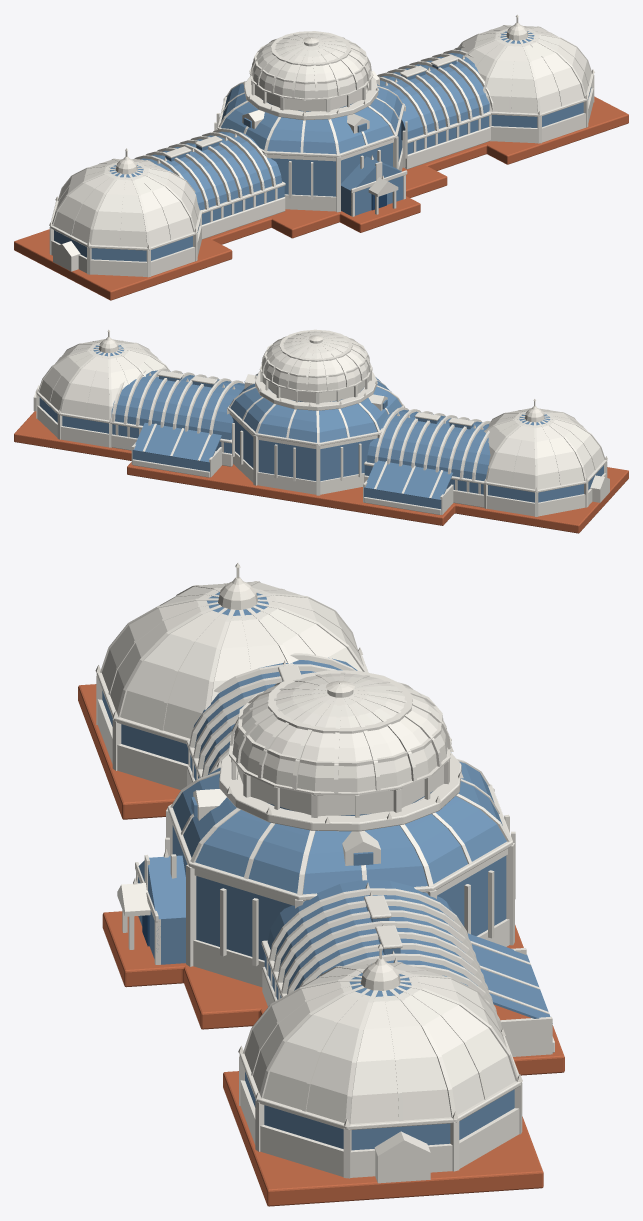
File: conservatory-of-flowers.glb
3 views of the same model, one above another, from view 1: azimuth 30°, elevation 25°; view 2: azimuth 150°, elevation 25°; view 3: azimuth 270°, elevation 25° (orthographic). The views are drawn at different scales.
Parts seen in each view (by area): view 1: plinth, end_w_glow, end_e_glow, wing_w_vault, wing_e_vault, skirt, dome_glow, drum_glass, end_w_knee, vest, end_e_knee, gallery (+15 smaller); view 2: plinth, end_w_glow, wing_w_vault, wing_e_vault, end_e_glow, skirt, dome_glow, drum_glass, lean_w_roof, lean_e_roof, drum_knee, end_w_knee (+19 smaller); view 3: end_e_glow, plinth, end_w_glow, skirt, wing_e_vault, dome_glow, drum_glass, end_e_knee, wing_w_vault, gallery, end_e_glass, vest (+18 smaller).
Part boxes in pixels (bbox=[...]): plinth: bbox=[14, 96, 628, 300]; end_w_glow: bbox=[53, 159, 199, 247]; end_e_glow: bbox=[459, 25, 591, 113]; wing_w_vault: bbox=[132, 128, 281, 210]; wing_e_vault: bbox=[377, 46, 493, 139]; skirt: bbox=[221, 83, 402, 154]; dome_glow: bbox=[251, 33, 370, 98]; drum_glass: bbox=[271, 122, 402, 196]; end_w_knee: bbox=[51, 225, 201, 276]; vest: bbox=[341, 156, 403, 215]; end_e_knee: bbox=[490, 88, 593, 143]; gallery: bbox=[244, 76, 378, 120]; plinth: bbox=[14, 411, 628, 533]; end_w_glow: bbox=[485, 408, 604, 489]; wing_w_vault: bbox=[367, 407, 490, 480]; wing_e_vault: bbox=[111, 368, 244, 439]; end_e_glow: bbox=[39, 339, 166, 420]; skirt: bbox=[230, 374, 401, 442]; dome_glow: bbox=[261, 331, 370, 390]; drum_glass: bbox=[232, 417, 374, 481]; lean_w_roof: bbox=[364, 460, 453, 500]; lean_e_roof: bbox=[133, 422, 221, 462]; drum_knee: bbox=[233, 451, 364, 494]; end_w_knee: bbox=[486, 473, 606, 516]; end_e_glow: bbox=[244, 962, 515, 1123]; plinth: bbox=[78, 684, 564, 1206]; end_w_glow: bbox=[102, 582, 363, 738]; skirt: bbox=[172, 762, 506, 894]; wing_e_vault: bbox=[267, 879, 501, 1030]; dome_glow: bbox=[232, 673, 447, 792]; drum_glass: bbox=[172, 825, 506, 960]; end_e_knee: bbox=[240, 1080, 519, 1177]; wing_w_vault: bbox=[189, 653, 357, 776]; gallery: bbox=[219, 752, 461, 831]; end_e_glass: bbox=[245, 1071, 514, 1150]; vest: bbox=[138, 855, 185, 964].
Size of the model in its own units: 78.8 by 18.3 by 30.94.
